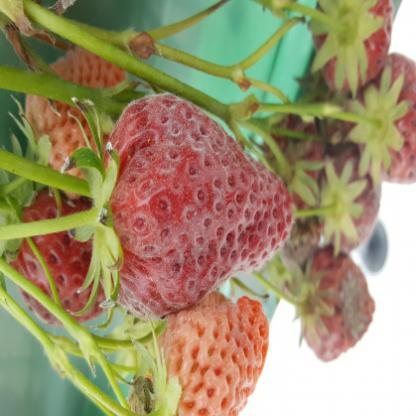Strawberry_Powdery_Mildew_Fruit: (93, 92, 296, 320)
